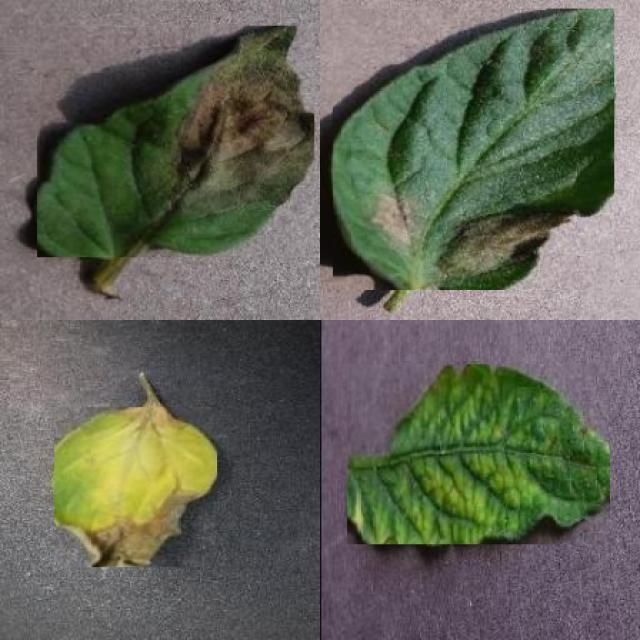Late Blight: (333, 9, 614, 290), (38, 26, 315, 258), (55, 407, 218, 567)
Mosaic Virus: (347, 365, 610, 545)
